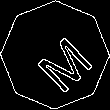M_NW: (21, 21, 89, 89)
